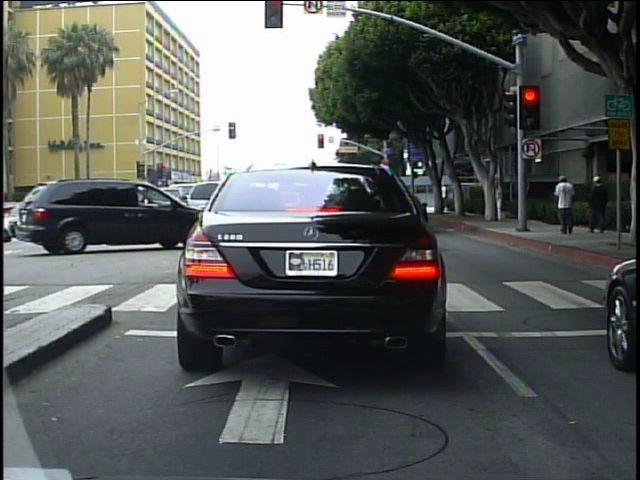person: (555, 172, 583, 236), (587, 171, 611, 237), (493, 178, 508, 221), (437, 179, 451, 213)
